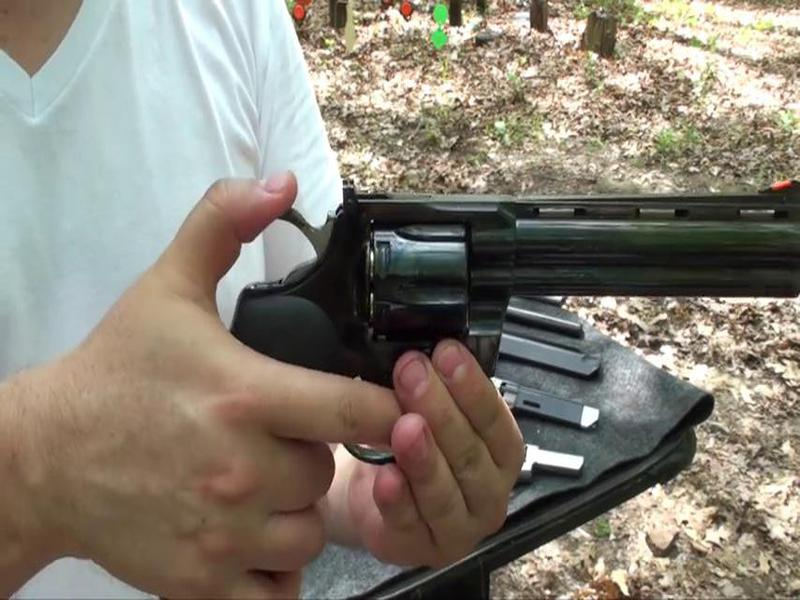Revolver: (238, 156, 800, 464)
